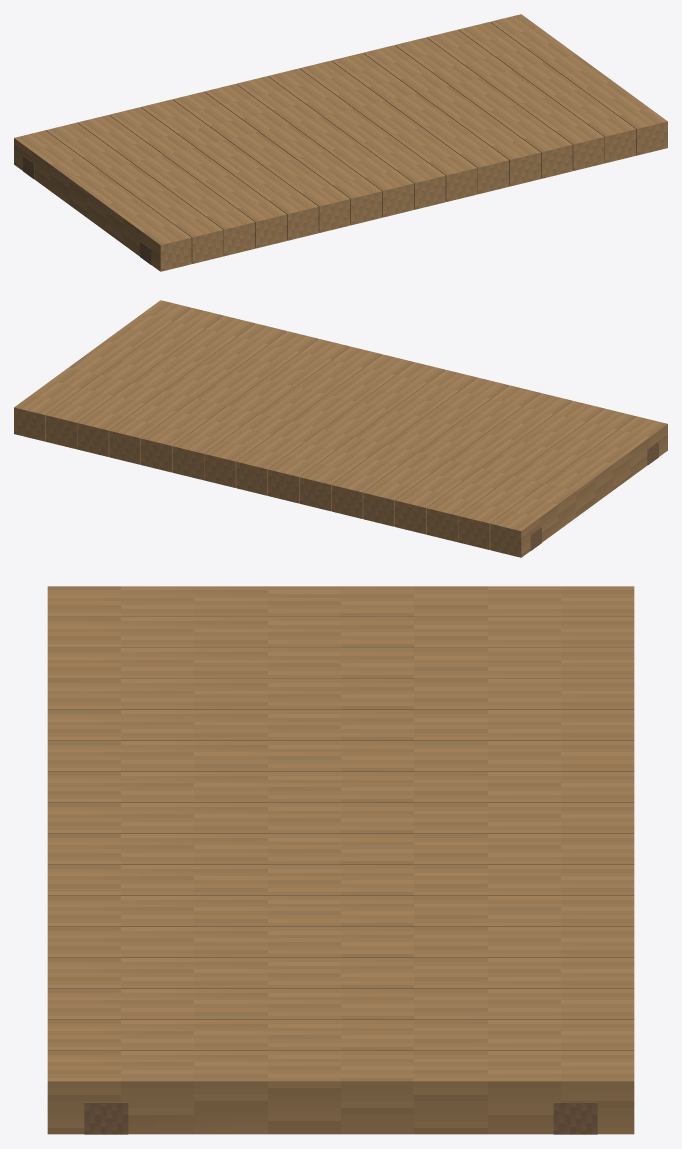
The model's file is dungeon-room-builder-bridge-plank-45e994f3__25801.glb.
3 renders of one model, top to bottom at view 1: azimuth 30°, elevation 25°; view 2: azimuth 150°, elevation 25°; view 3: azimuth 270°, elevation 25°, orthographic. The views are drawn at different scales.
Visible parts, largest first — view 1: bridge-plank; view 2: bridge-plank; view 3: bridge-plank.
Boxes of the visible parts, x1,y1,x2,y2 form: bridge-plank: [14, 14, 667, 271]; bridge-plank: [14, 300, 667, 557]; bridge-plank: [47, 586, 634, 1134].
Size of the model in its own units: 4 by 0.2 by 2.
2 materials, 2 textured.
